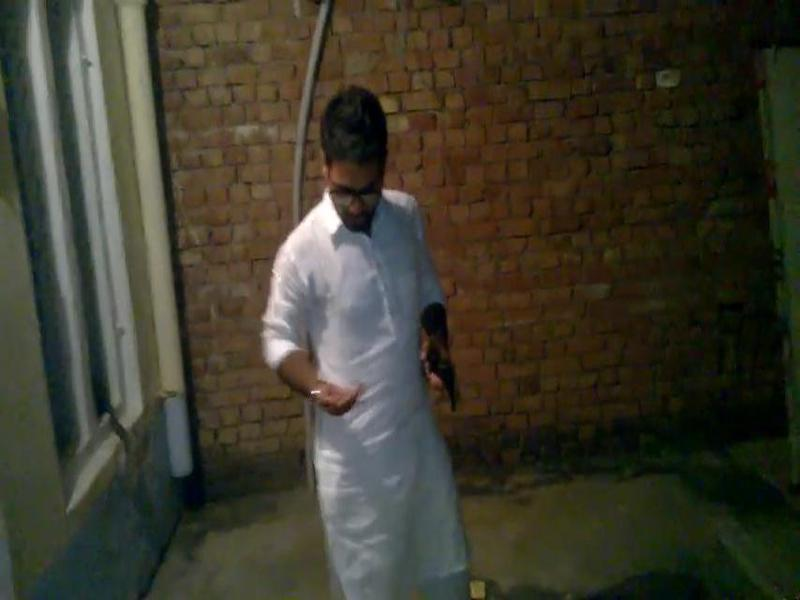Revolver: (413, 320, 471, 423)
